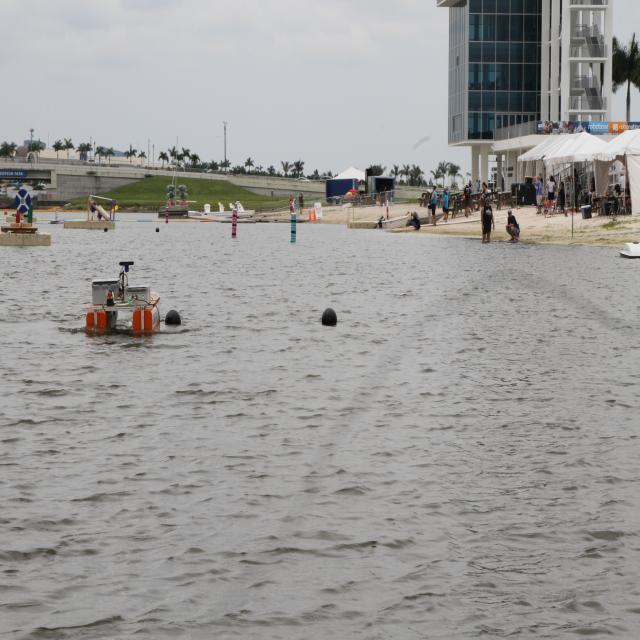buoy: (321, 306, 338, 330), (166, 308, 182, 327), (154, 227, 161, 235)
